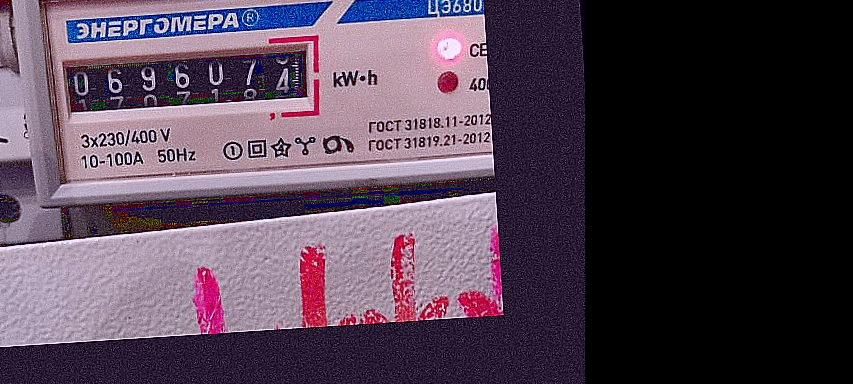0: (69, 68, 92, 98), (206, 57, 225, 87), (105, 66, 124, 93)
4: (272, 66, 291, 95)
6: (171, 59, 191, 90)
7: (239, 56, 258, 86)
9: (138, 63, 158, 92)
screen: (47, 31, 325, 132)
